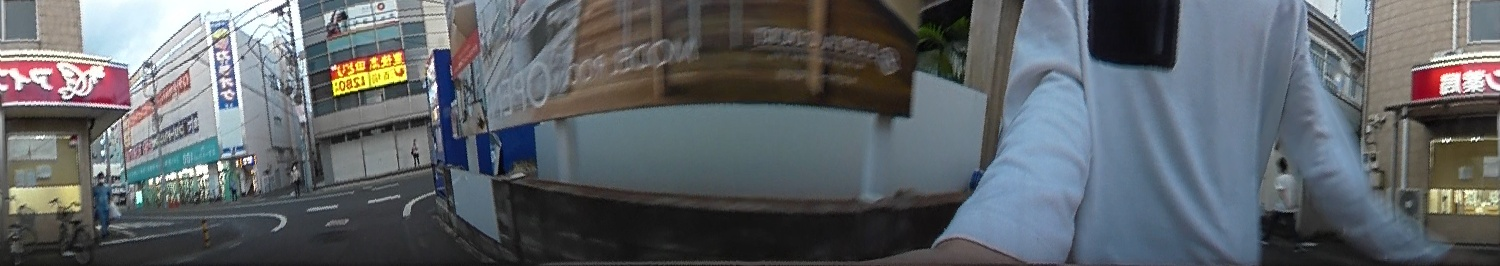difficult_person: (285, 161, 302, 200), (408, 136, 423, 168)
person: (1263, 155, 1318, 251), (89, 169, 115, 238)
